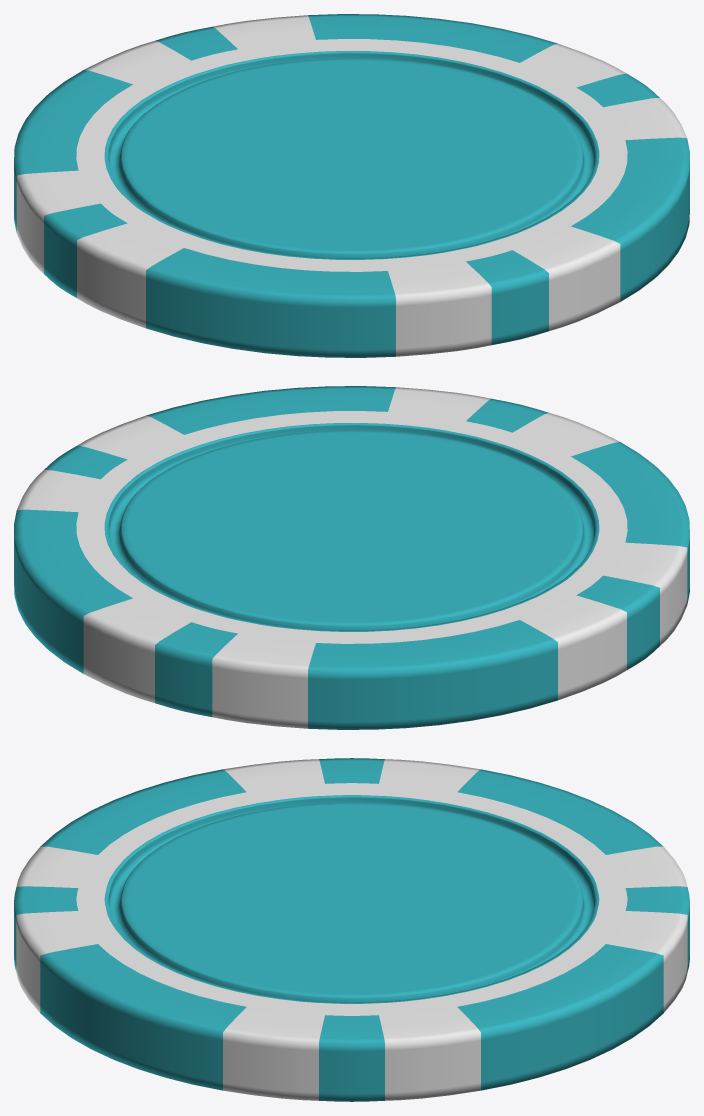
The model's file is Chip_Cyan.glb.
3 renders of one model, top to bottom at view 1: azimuth 30°, elevation 25°; view 2: azimuth 150°, elevation 25°; view 3: azimuth 270°, elevation 25°, orthographic.
Parts seen in each view (by area): view 1: Chip; view 2: Chip; view 3: Chip.
Part boxes in pixels (x1,y1,x2,y2): Chip: (14,14,689,357); Chip: (14,386,689,729); Chip: (14,758,689,1101).
Size of the model in its own units: 2 by 0.1988 by 2.
